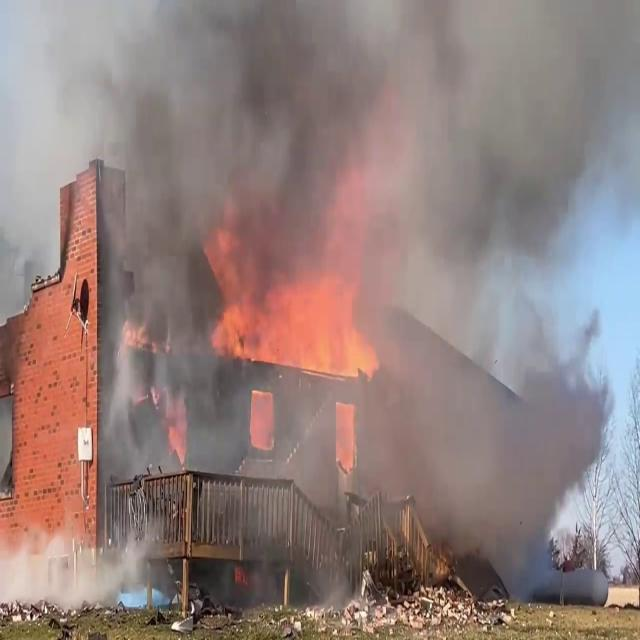Fire: (210, 258, 380, 376)
Smoke: (95, 0, 385, 588), (368, 1, 640, 570)
